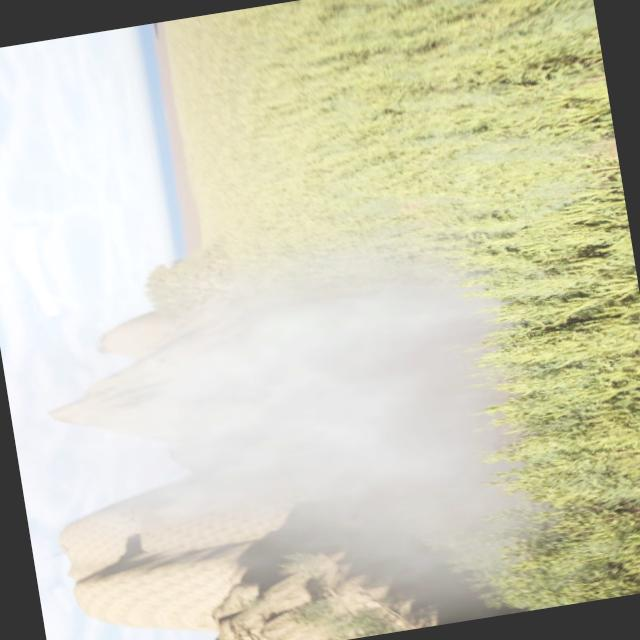smoke: (0, 217, 561, 640)
